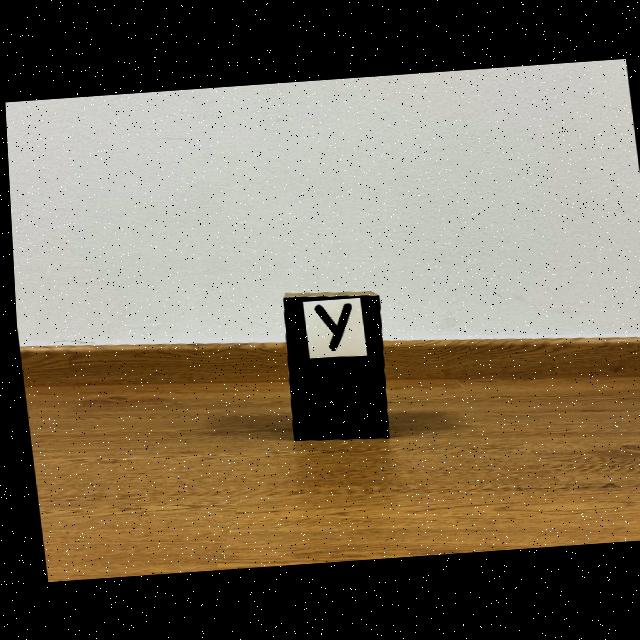Y: (311, 304, 348, 350)
